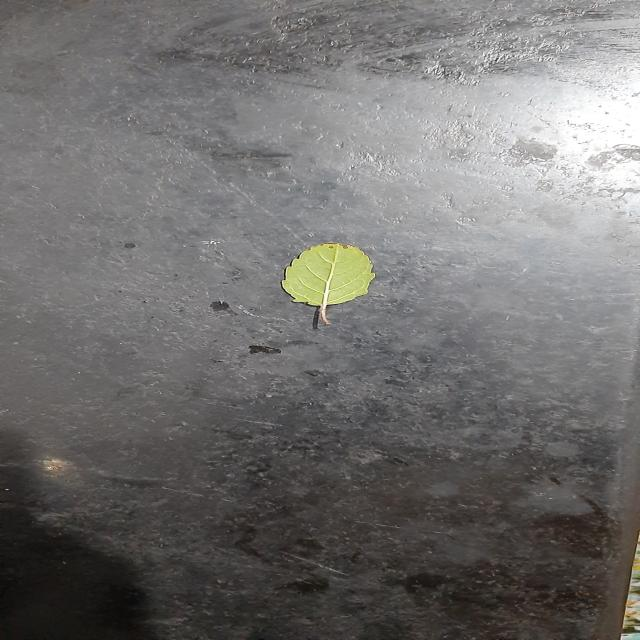tulsi: (282, 242, 374, 324)
